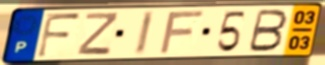5: (215, 9, 247, 53)
B: (246, 8, 290, 53)
F: (156, 9, 207, 56), (35, 12, 83, 60)
I: (133, 10, 156, 57)
Z: (75, 11, 121, 57)
